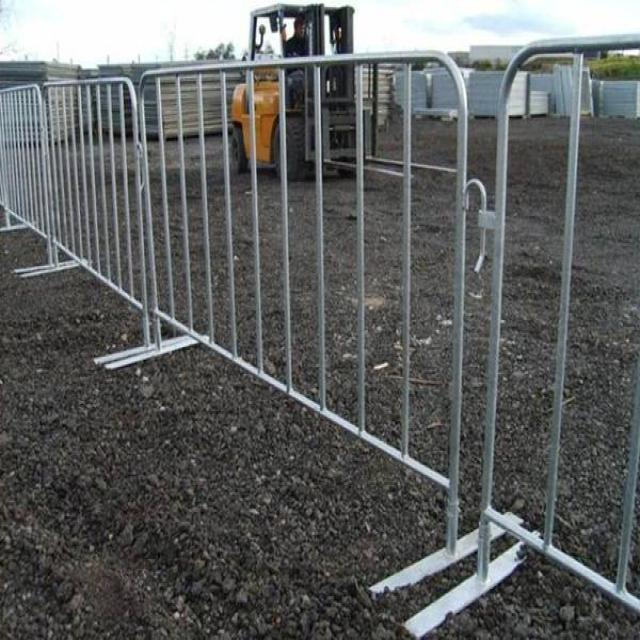cone: (0, 36, 639, 638)
